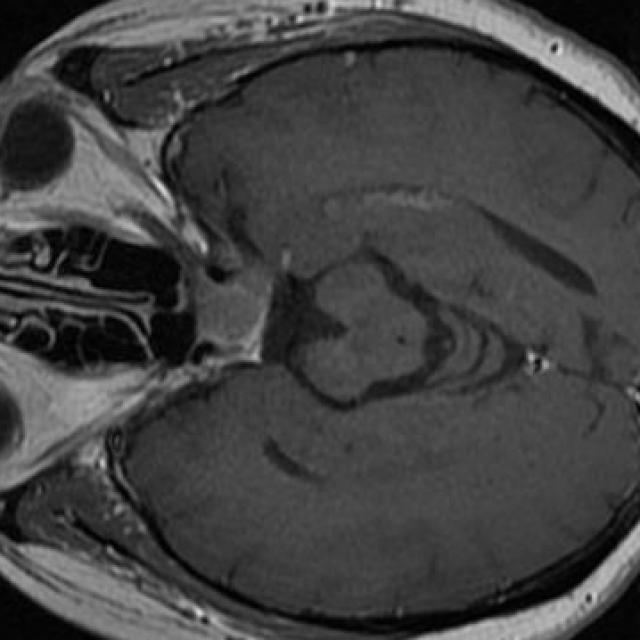pituitary: (198, 266, 276, 355)
